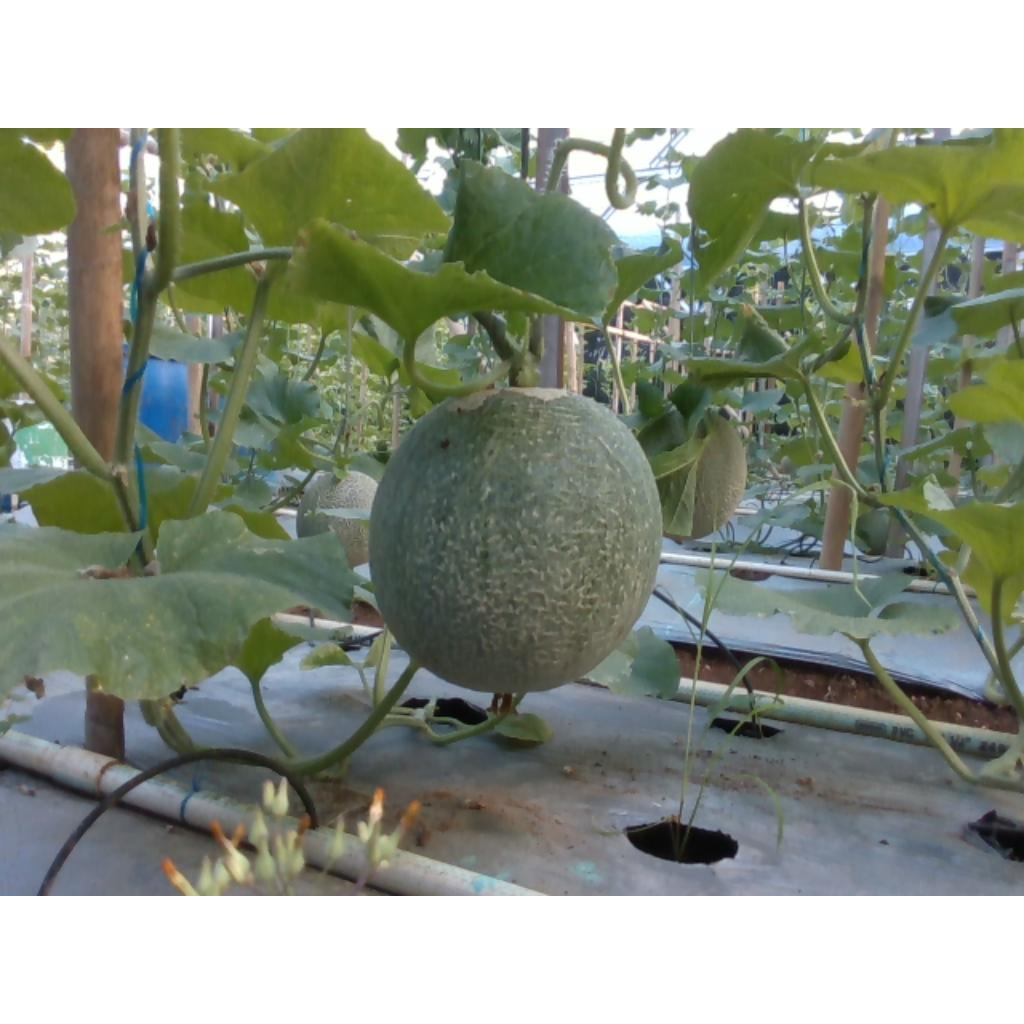melon: (371, 387, 664, 694)
